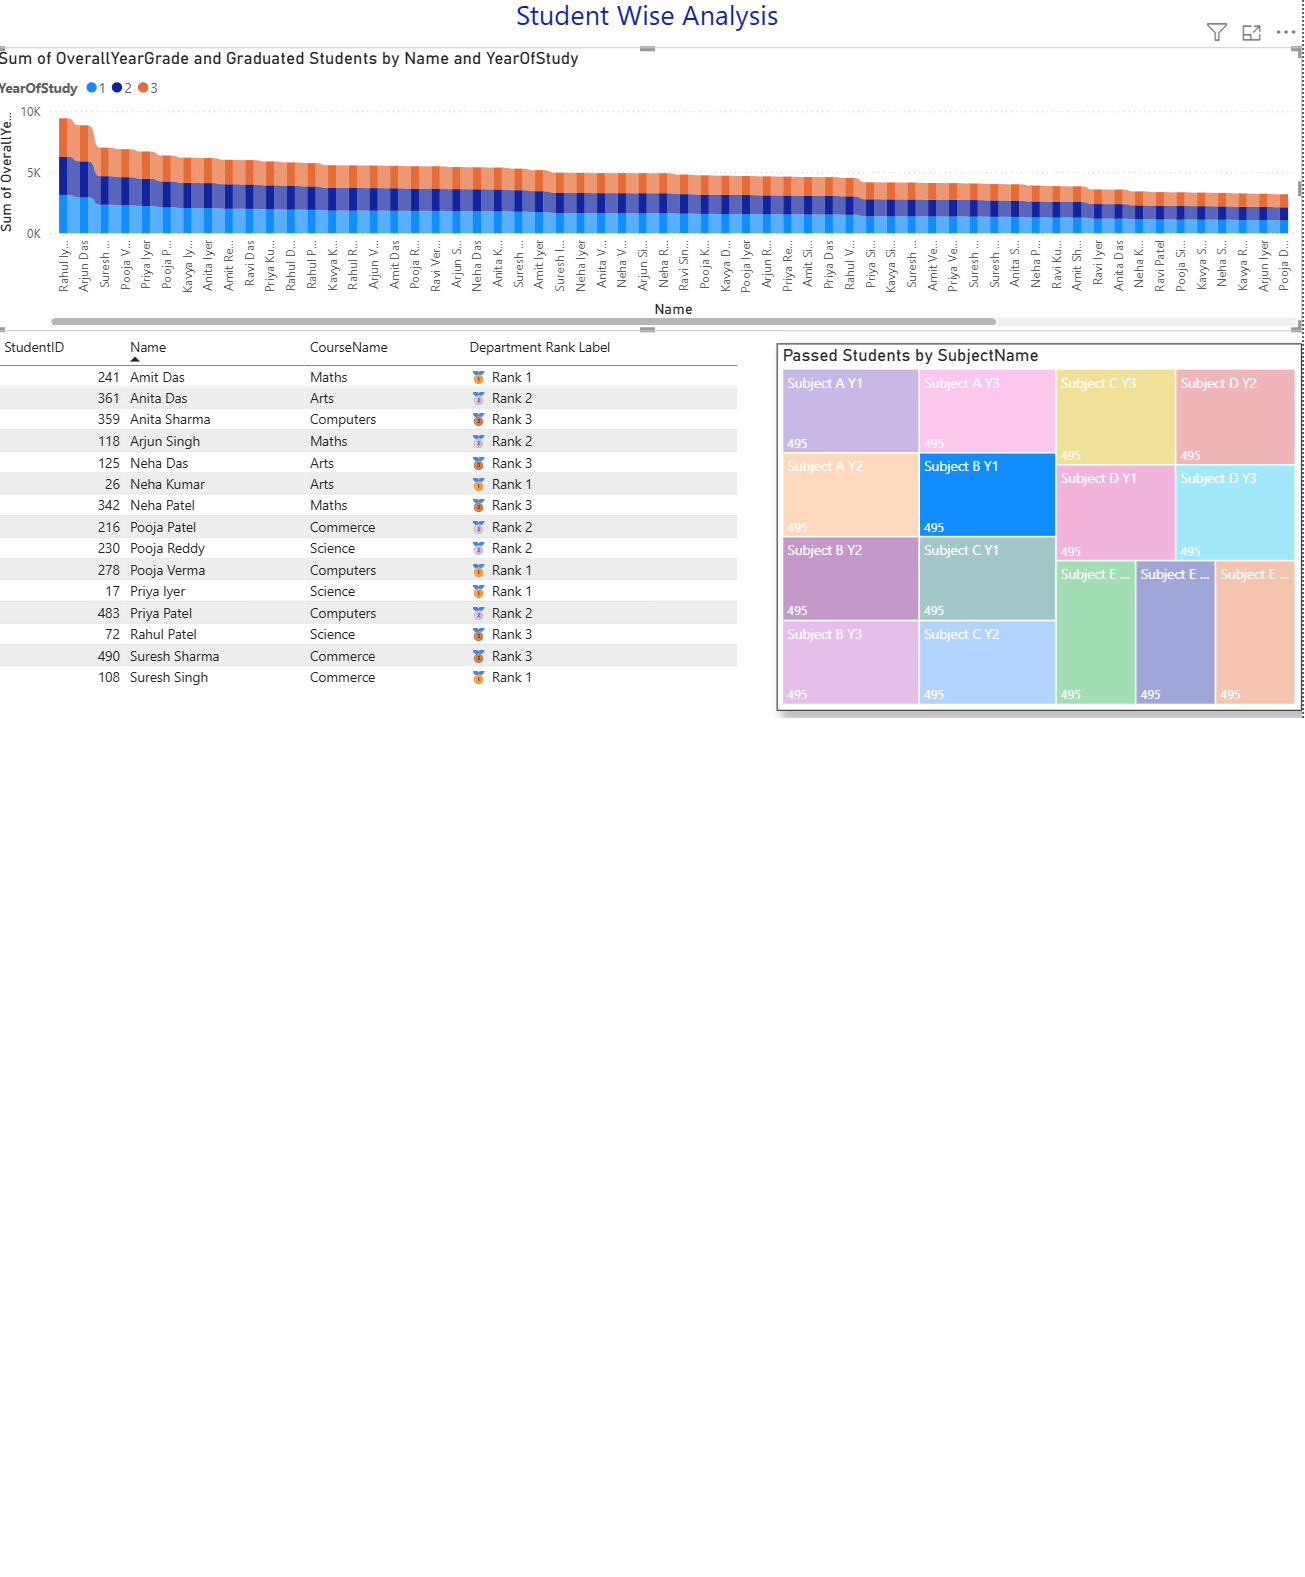

The dashboard page shown, as its layout file describes it:
{"tool":"powerbi","page":{"name":"Student","canvas":[1280,720],"ordinal":2},"visuals":[{"type":"textbox","box":[9.9,393.2,628.8,225.7],"z":0},{"type":"textbox","box":[0,0,1280.1,83.5],"z":1000},{"type":"tableEx","fields":{"Values":["Dim_Students.StudentID","Dim_Students.Name","Dim_Courses.CourseName","Measures1.Department Rank Label"]},"box":[0,332.6,734.9,370.5],"z":2000},{"type":"ribbonChart","fields":{"Series":["Fact_SubjectGrades.YearOfStudy"],"Category":["Dim_Students.Name"],"Y":["Fact_Enrollments.OverallYearGrade"]},"box":[0,55,1280.3,277.6],"z":3000},{"type":"treemap","fields":{"Values":["Measures1.Passed Students"],"Group":["Dim_Subjects.SubjectName"]},"box":[766.7,344.8,513.6,359.5],"z":3001}]}

Visuals, with their boxes on the page's 1280x720 design canvas (x1, y1, x2, y2). These are canvas units, not pixel positions in the 1305x1577 screenshot, which may show the page scaled, cropped or inside an application window:
textbox: x1=10, y1=393, x2=639, y2=619
textbox: x1=0, y1=0, x2=1280, y2=84
tableEx - Dim_Students.StudentID x Dim_Students.Name: x1=0, y1=333, x2=735, y2=703
ribbonChart - Fact_SubjectGrades.YearOfStudy x Dim_Students.Name: x1=0, y1=55, x2=1280, y2=333
treemap - Measures1.Passed Students x Dim_Subjects.SubjectName: x1=767, y1=345, x2=1280, y2=704
